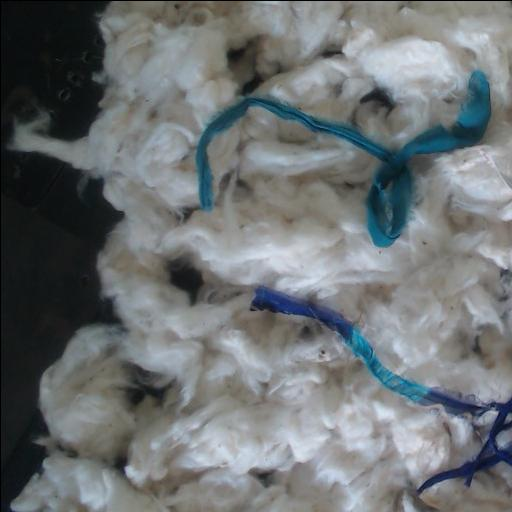cloth: (196, 71, 490, 246), (252, 286, 492, 415), (418, 396, 512, 493)
conveyor belt: (1, 1, 118, 512), (168, 260, 201, 299), (128, 369, 164, 403)
cotton: (6, 1, 512, 512)
